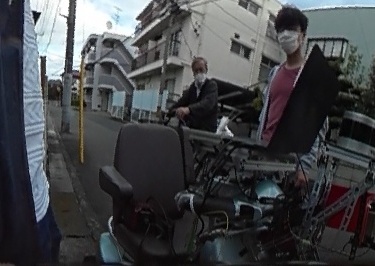person: (261, 4, 319, 139), (172, 54, 220, 129)
